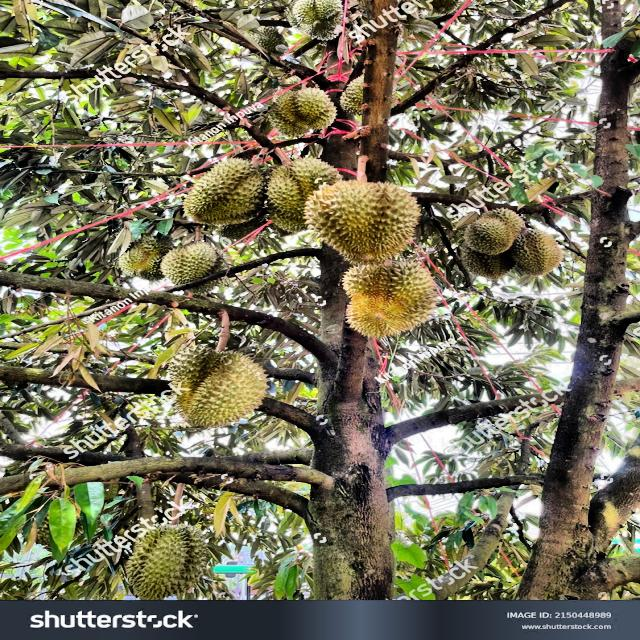arvore: (312, 135, 422, 605)
